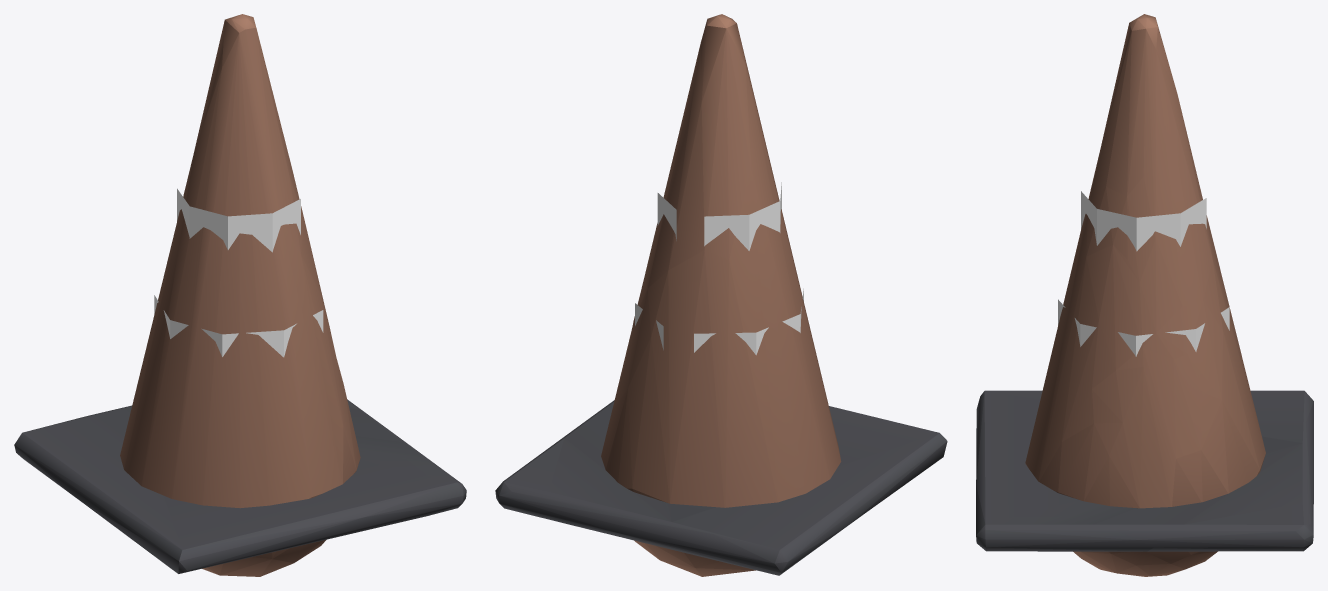
3 views of the same model, side by side, from view 1: azimuth 30°, elevation 25°; view 2: azimuth 150°, elevation 25°; view 3: azimuth 270°, elevation 25° (orthographic).
Parts seen in each view (by area): view 1: cone, cone_decal; view 2: cone, cone_decal; view 3: cone, cone_decal.
Part boxes in pixels (x1,y1,x2,y2): cone: [14, 14, 466, 576]; cone_decal: [154, 188, 323, 357]; cone: [495, 14, 947, 576]; cone_decal: [635, 182, 803, 355]; cone: [976, 14, 1313, 576]; cone_decal: [1058, 191, 1229, 356].
Bounding box in the file's own units: 0.3396 × 0.6074 × 0.339.
